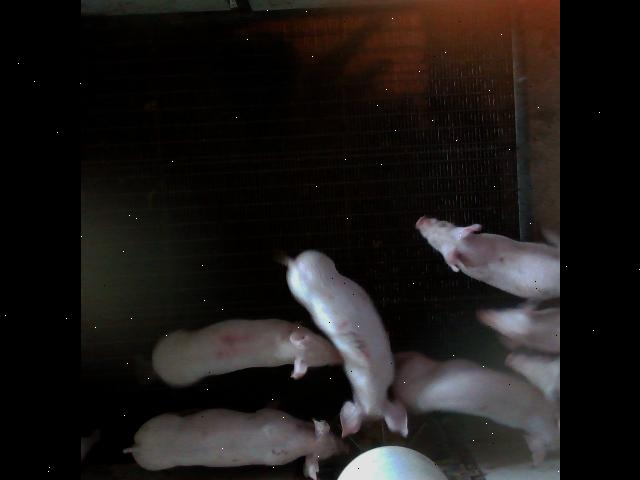pig-3: (284, 250, 407, 436)
pig-4: (151, 319, 341, 388)
